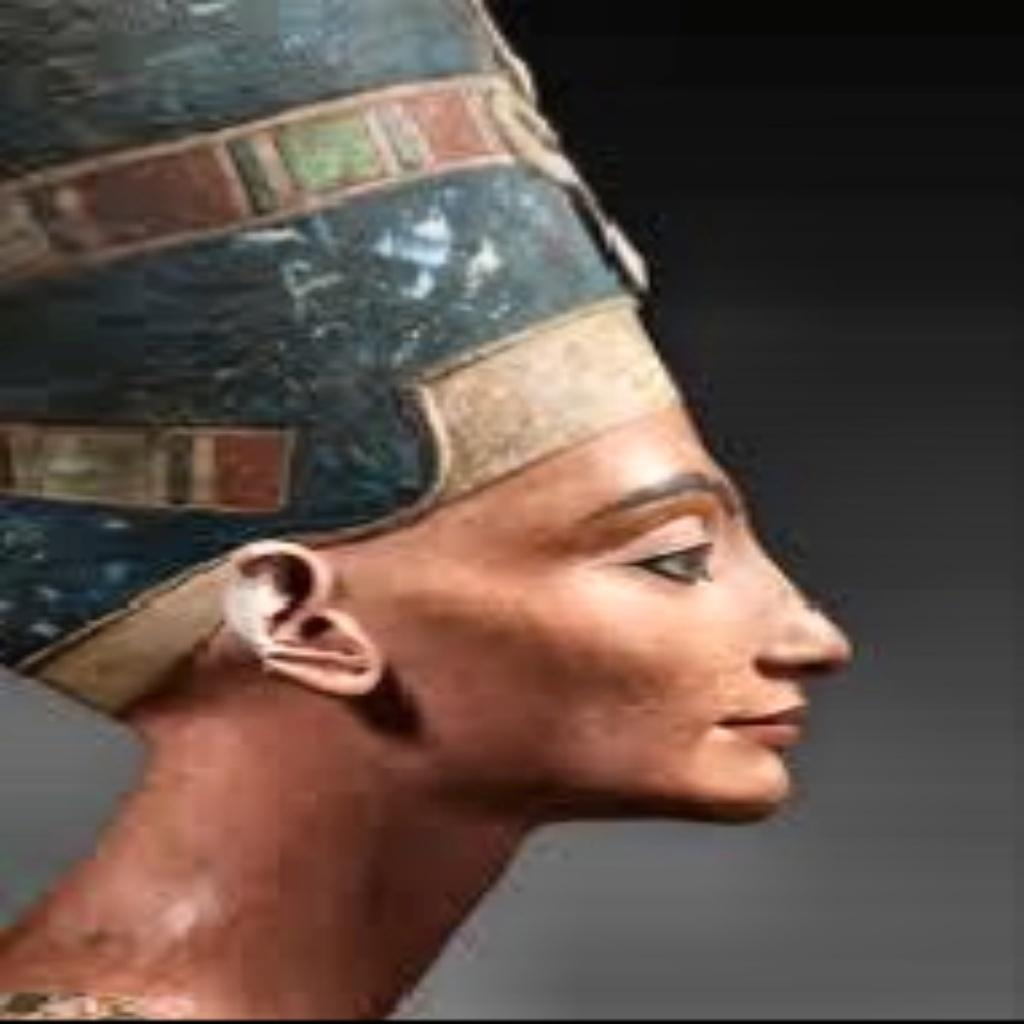Nefertiti: (0, 0, 852, 1016)
